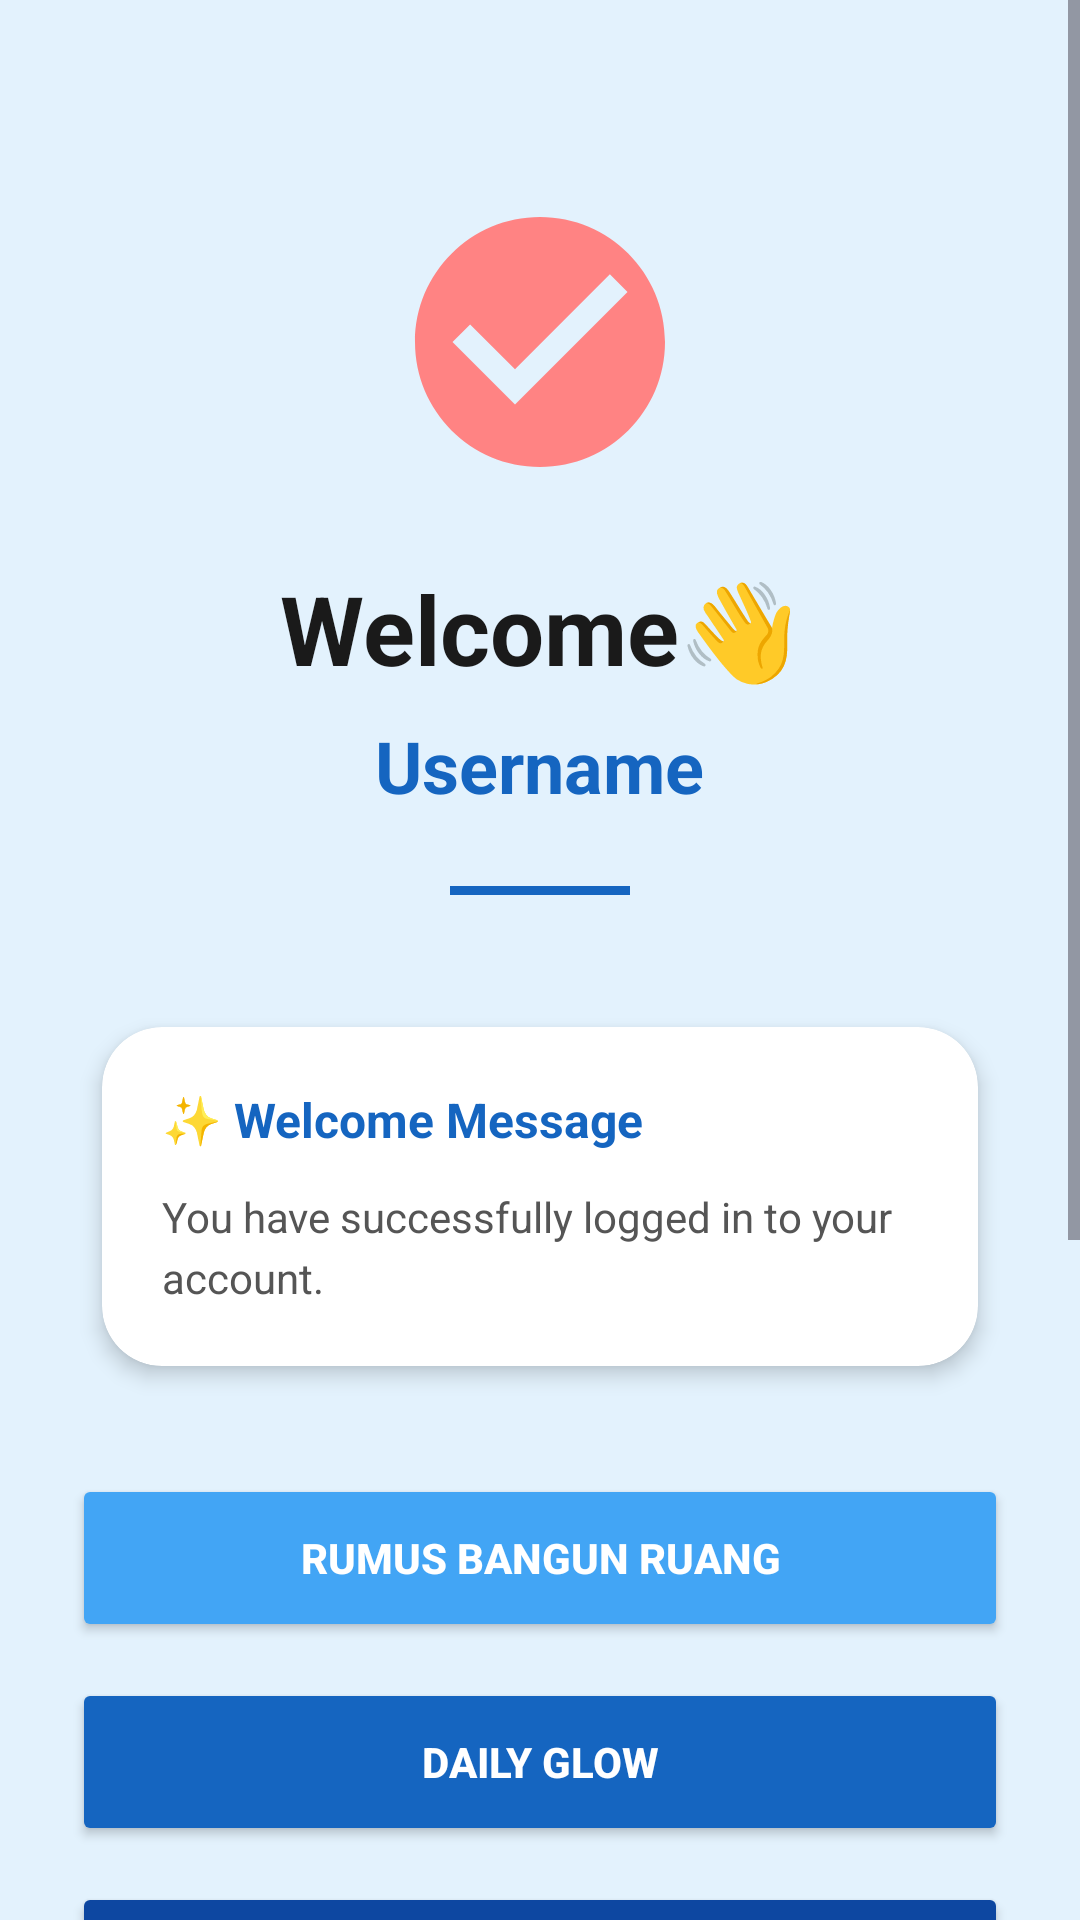

Screen size 1080×1920. Icon name, then its center in pixels as [x,y]:
Success: [540,342]
